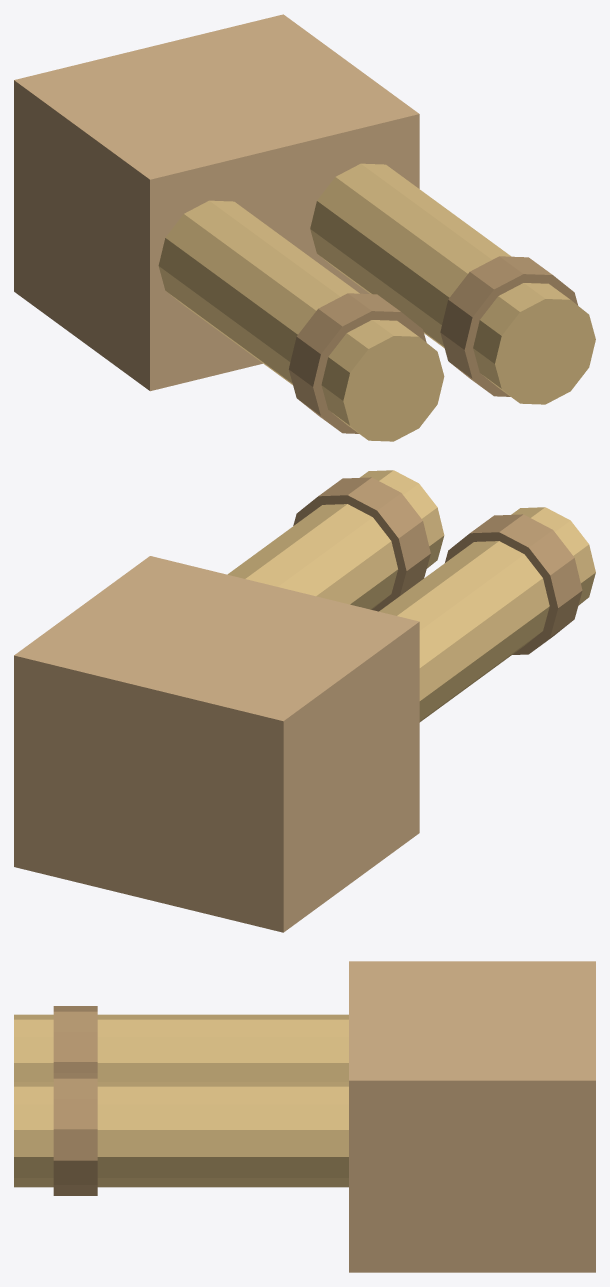
File: SM_Weapon_SideCannon_01.glb
The picture shows the model from 3 angles, top to bottom: view 1: azimuth 30°, elevation 25°; view 2: azimuth 150°, elevation 25°; view 3: azimuth 270°, elevation 25°; orthographic projection. The views are drawn at different scales.
Parts seen in each view (by area): view 1: SM_SideCannon_Base, SM_SideCannon_Barrel_0, SM_SideCannon_Barrel_1, SM_SideCannon_Ring_1, SM_SideCannon_Ring_0; view 2: SM_SideCannon_Base, SM_SideCannon_Barrel_0, SM_SideCannon_Barrel_1, SM_SideCannon_Ring_0, SM_SideCannon_Ring_1; view 3: SM_SideCannon_Base, SM_SideCannon_Barrel_1, SM_SideCannon_Barrel_0, SM_SideCannon_Ring_1, SM_SideCannon_Ring_0.
Boxes of the visible parts, bbox=[...] form: SM_SideCannon_Base: bbox=[14, 14, 419, 391]; SM_SideCannon_Barrel_0: bbox=[158, 200, 444, 441]; SM_SideCannon_Barrel_1: bbox=[310, 163, 595, 404]; SM_SideCannon_Ring_1: bbox=[440, 256, 577, 396]; SM_SideCannon_Ring_0: bbox=[288, 293, 426, 433]; SM_SideCannon_Base: bbox=[14, 556, 419, 932]; SM_SideCannon_Barrel_0: bbox=[379, 507, 595, 722]; SM_SideCannon_Barrel_1: bbox=[227, 470, 444, 609]; SM_SideCannon_Ring_0: bbox=[445, 514, 582, 654]; SM_SideCannon_Ring_1: bbox=[293, 477, 430, 611]; SM_SideCannon_Base: bbox=[349, 961, 595, 1272]; SM_SideCannon_Barrel_1: bbox=[14, 1082, 348, 1187]; SM_SideCannon_Barrel_0: bbox=[14, 1014, 348, 1081]; SM_SideCannon_Ring_1: bbox=[53, 1073, 97, 1195]; SM_SideCannon_Ring_0: bbox=[53, 1006, 97, 1072].
Size of the model in its own units: 0.32 by 0.24 by 0.66.
